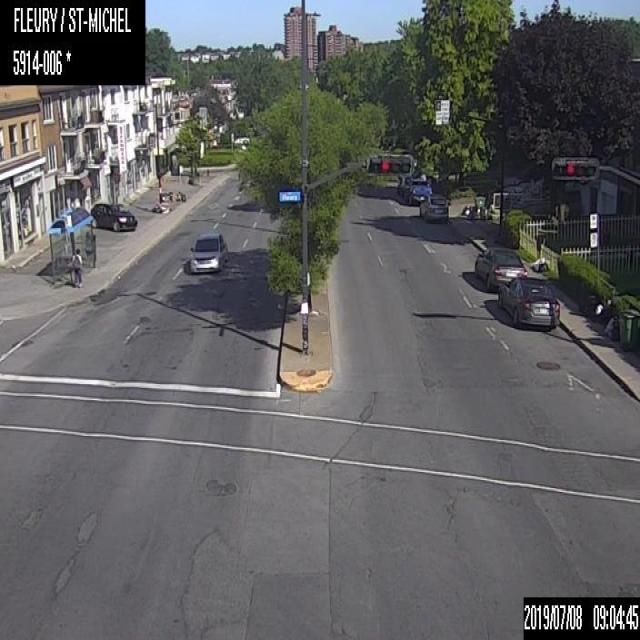pedestrian: (70, 247, 83, 288)
vehicle: (495, 271, 559, 328), (472, 242, 527, 294), (189, 232, 227, 273), (90, 202, 136, 231), (417, 194, 450, 224), (406, 179, 434, 205)
